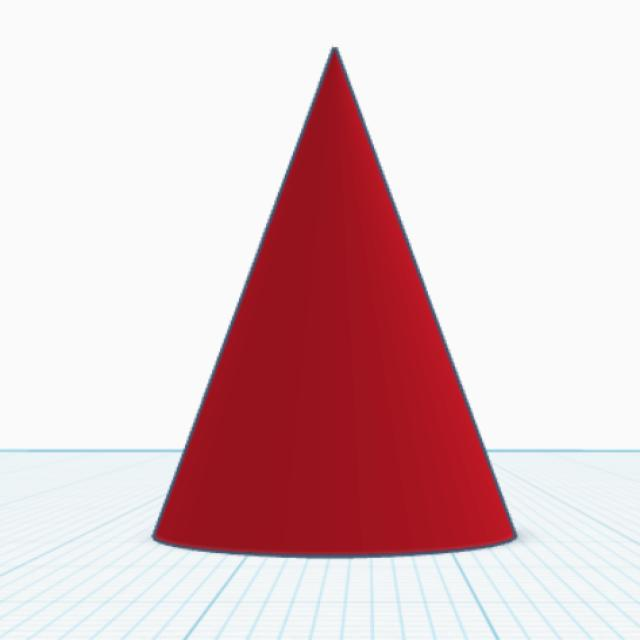cone: (147, 41, 522, 562)
